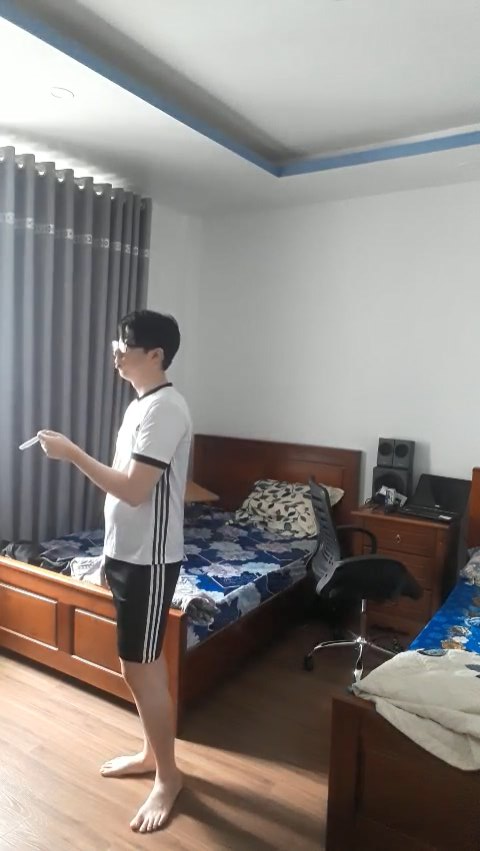cigarette: (19, 431, 39, 452)
person: (53, 304, 203, 839)
